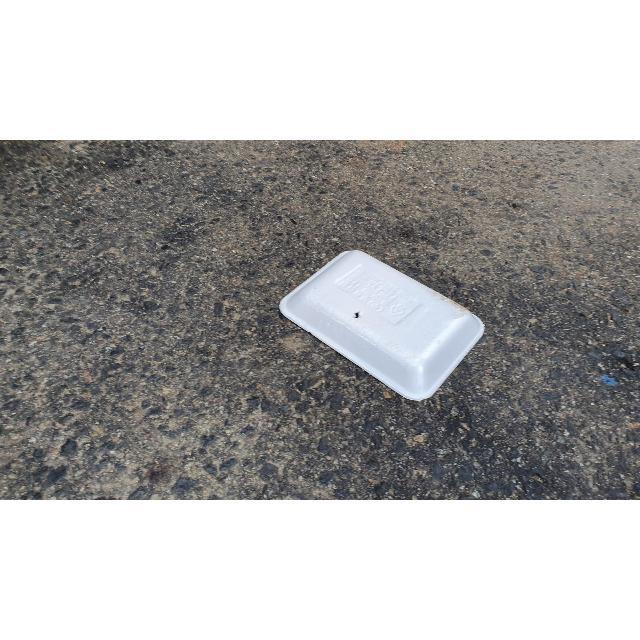Plastico descartable: (278, 251, 486, 403)
